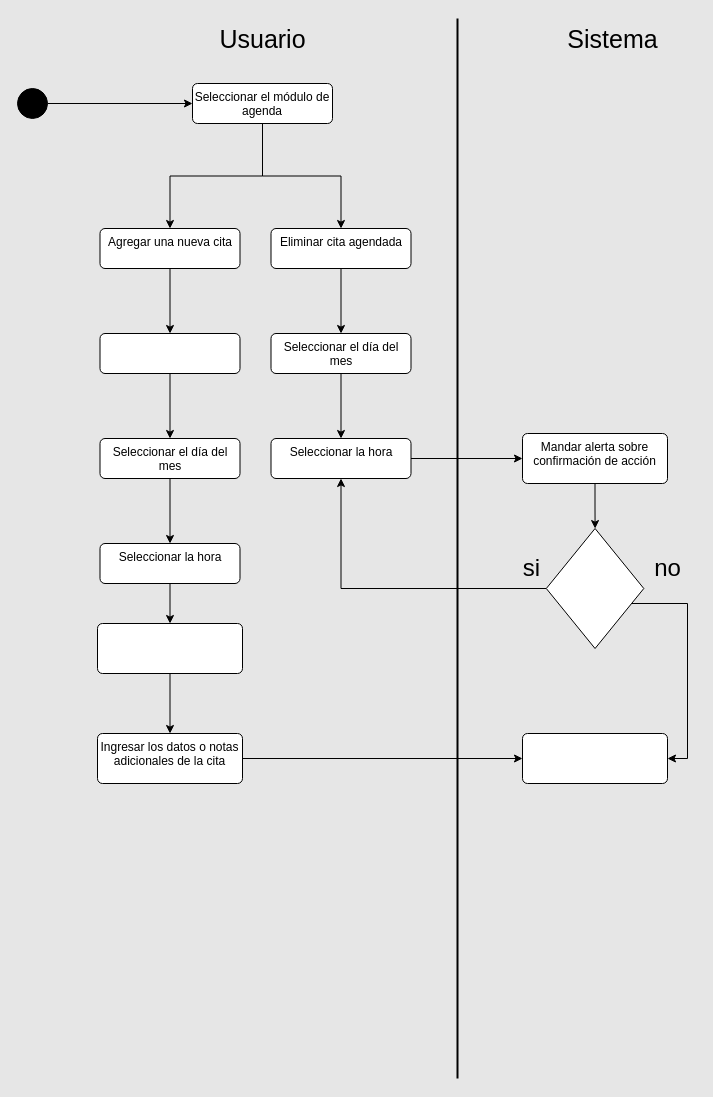
The diagram is 713 pixels wide and 1097 high, and some of its shapes have lost their labels. The centre of each missing label's shape, as x and y in pixels:
"Actualizar la agenda del especialista" belongs at (595,758).
"Opción seleccionada" belongs at (594,588).
"Seleccionar el mes de la agenda" belongs at (169,353).
"Seleccionar el perfil del paciente que se desea agenda" belongs at (169,648).
